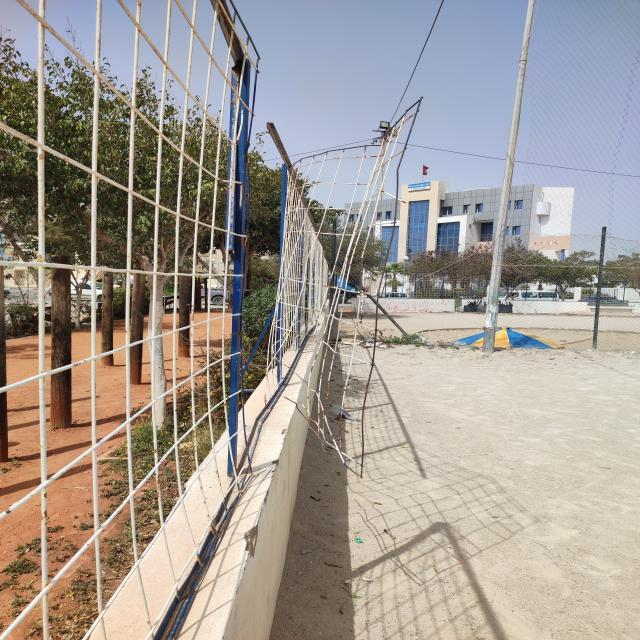fence line: (242, 87, 404, 477)
